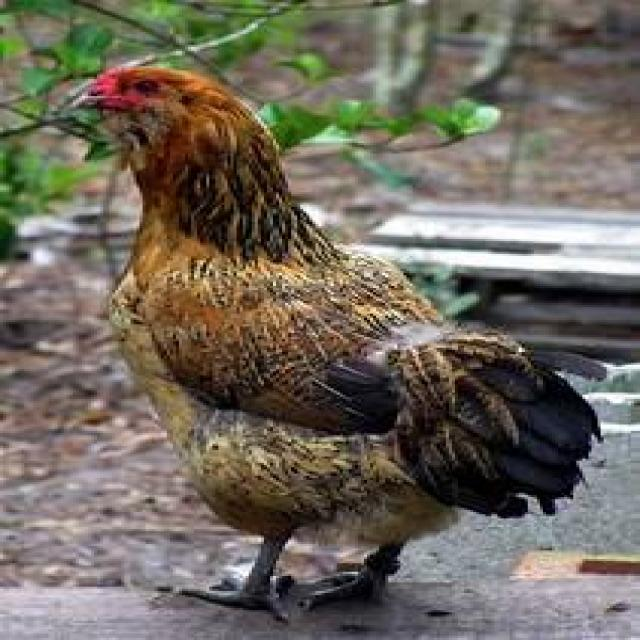hen: (79, 64, 601, 621)
